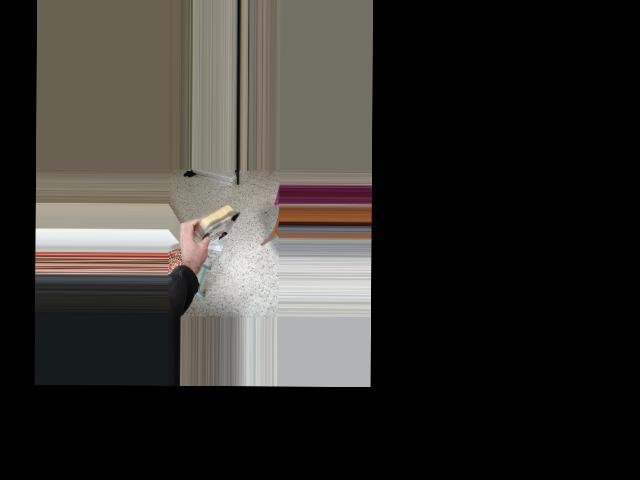cheese: (172, 195, 248, 255)
